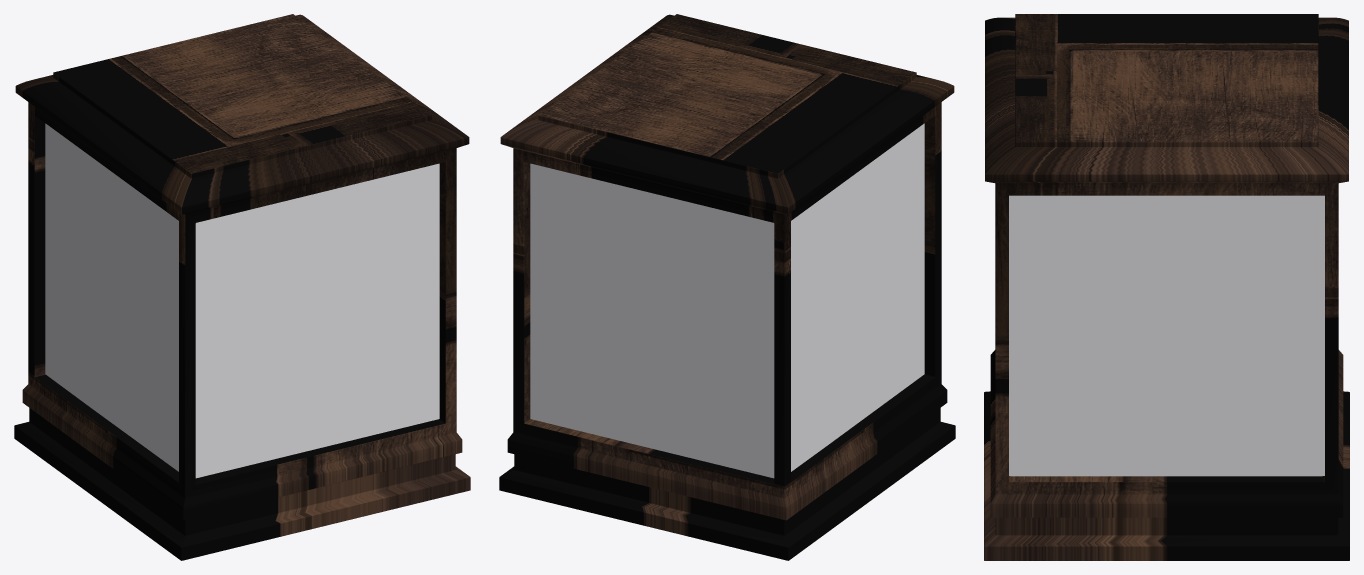
File: Vitrine.fbx
The picture shows the model from 3 angles, left to right: view 1: azimuth 30°, elevation 25°; view 2: azimuth 150°, elevation 25°; view 3: azimuth 270°, elevation 25°; orthographic projection. The views are drawn at different scales.
Visible parts, largest first — view 1: Vitrine, Glas; view 2: Vitrine, Glas; view 3: Vitrine, Glas.
Part boxes in pixels (x1=…): Vitrine: x1=14, y1=14, x2=470, y2=560; Glas: x1=45, y1=123, x2=439, y2=478; Vitrine: x1=499, y1=14, x2=955, y2=560; Glas: x1=530, y1=123, x2=924, y2=478; Vitrine: x1=984, y1=14, x2=1349, y2=560; Glas: x1=1009, y1=195, x2=1324, y2=476.
Size of the model in its own units: 213 by 261 by 213.
